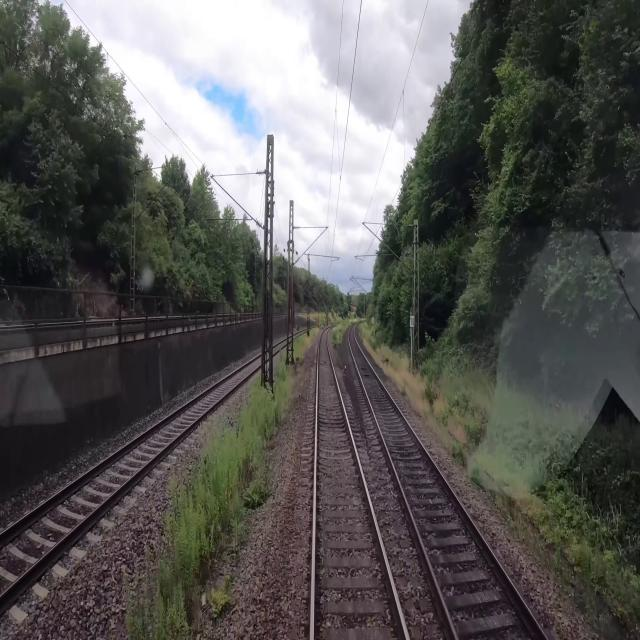Plant: (124, 327, 320, 639), (208, 572, 233, 622), (332, 321, 359, 349)
